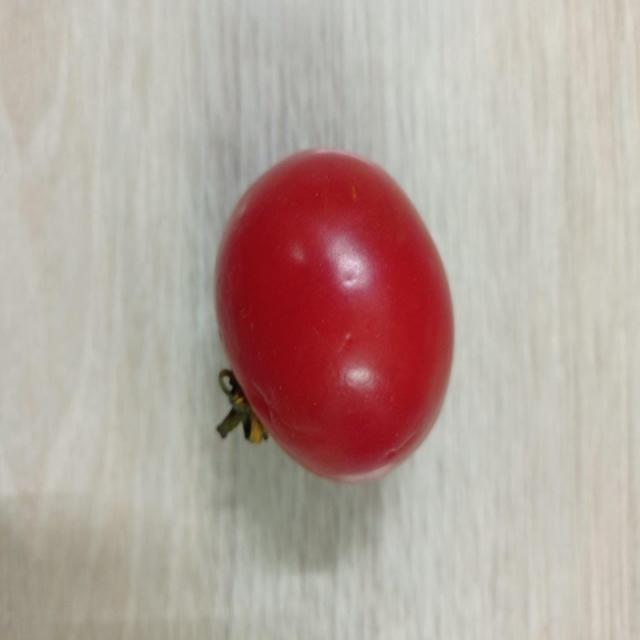Ripe: (210, 144, 458, 481)
